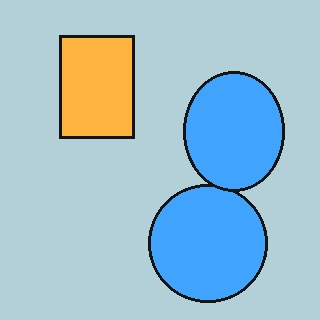circle_target: (148, 184, 267, 302), (183, 71, 284, 191)
square_target: (59, 35, 135, 138)
